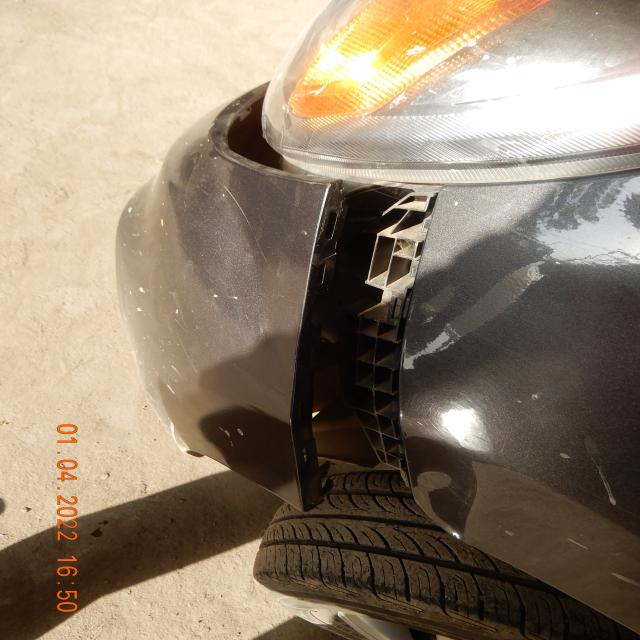damage: (284, 168, 438, 505), (201, 82, 301, 182)
